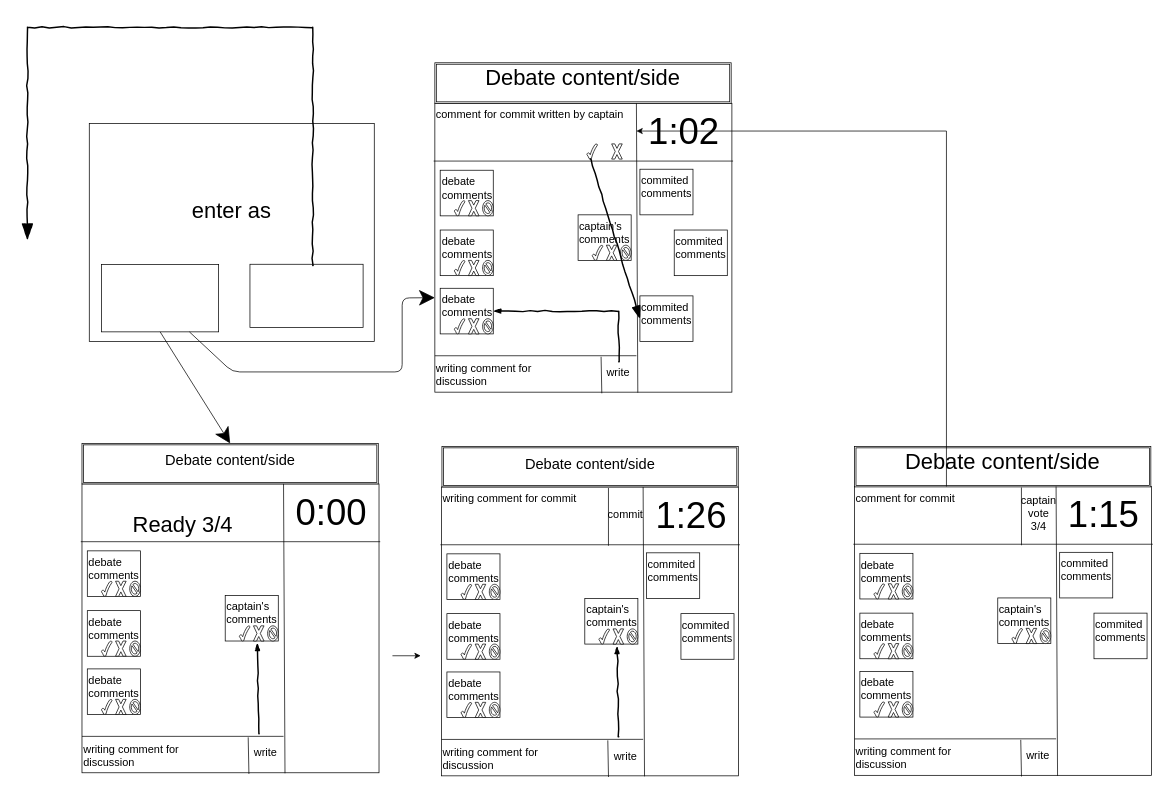
Some shapes in this 1167 by 791 pixel diagram are drawn without their labels. Each missing label, with the box of its shape:
debater: (101, 264, 219, 332)
observer: (249, 264, 363, 328)
